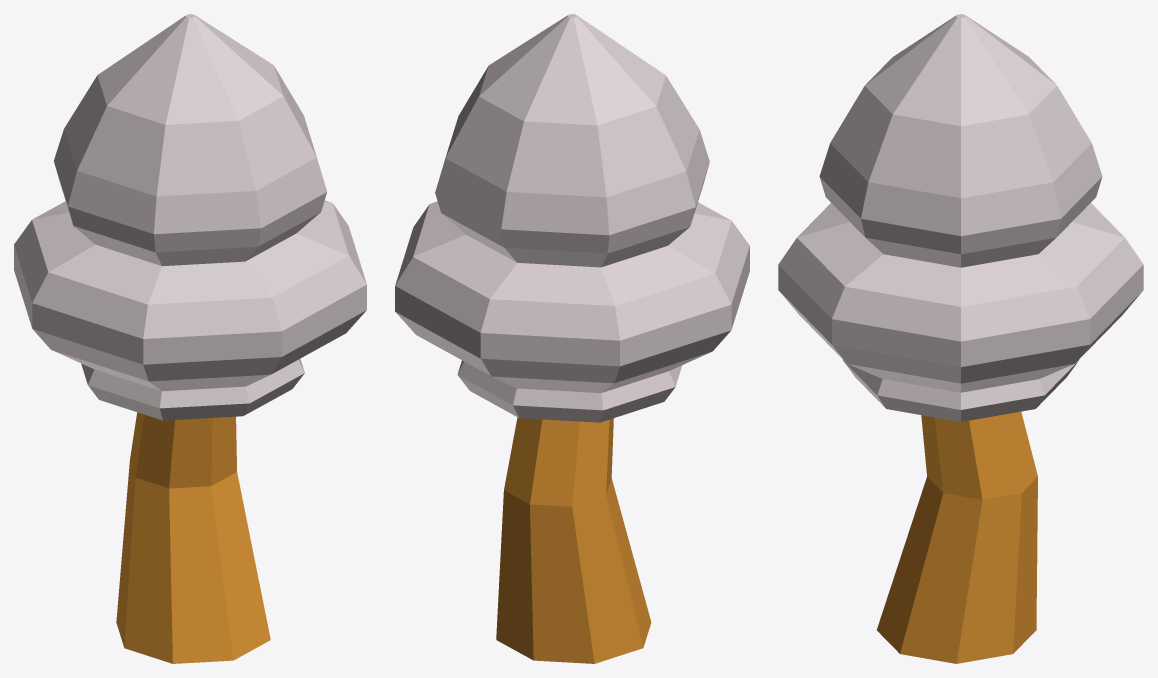
Rendered from Tree3.fbx.
3 renders of one model, left to right at view 1: azimuth 30°, elevation 25°; view 2: azimuth 150°, elevation 25°; view 3: azimuth 270°, elevation 25°, orthographic.
Parts seen in each view (by area): view 1: Cylinder.001, Cylinder; view 2: Cylinder.001, Cylinder; view 3: Cylinder.001, Cylinder.
Part boxes in pixels (x1,y1,x2,y2): Cylinder.001: (14,14,366,420); Cylinder: (116,412,270,663); Cylinder.001: (395,14,749,422); Cylinder: (496,417,651,663); Cylinder.001: (778,14,1143,421); Cylinder: (877,411,1037,663).
Bounding box in the file's own units: 457 × 847 × 457.
